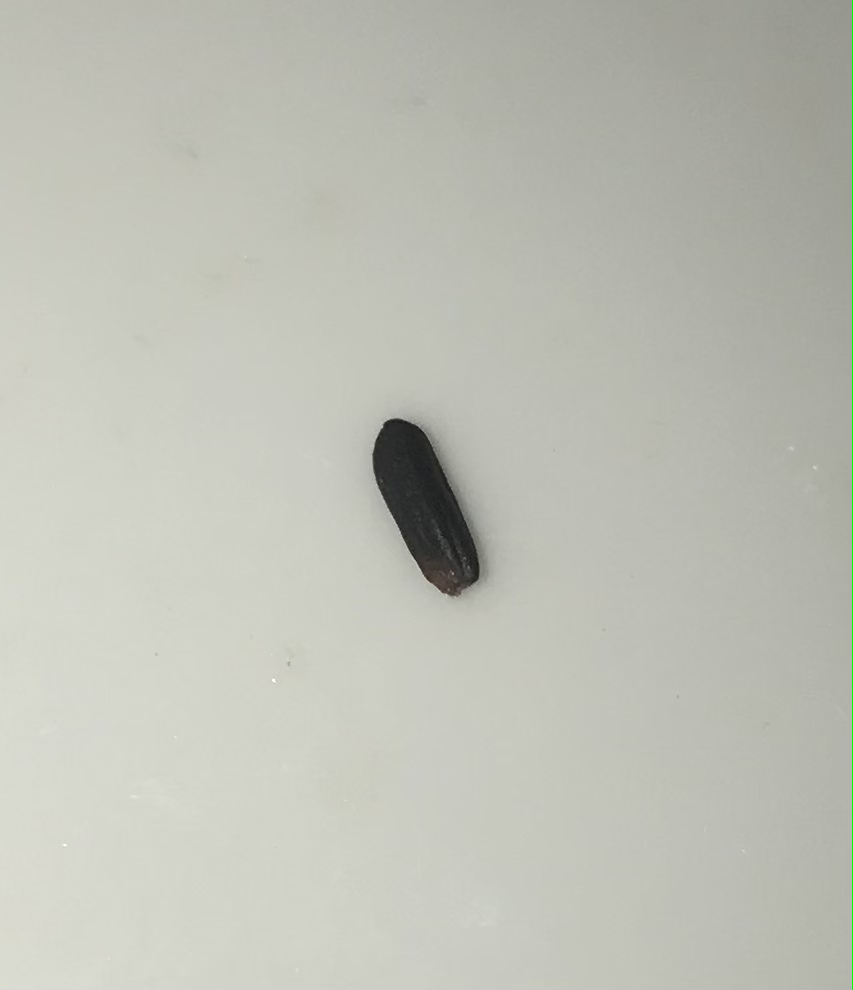Gao Nep Cam: (351, 387, 515, 623)
